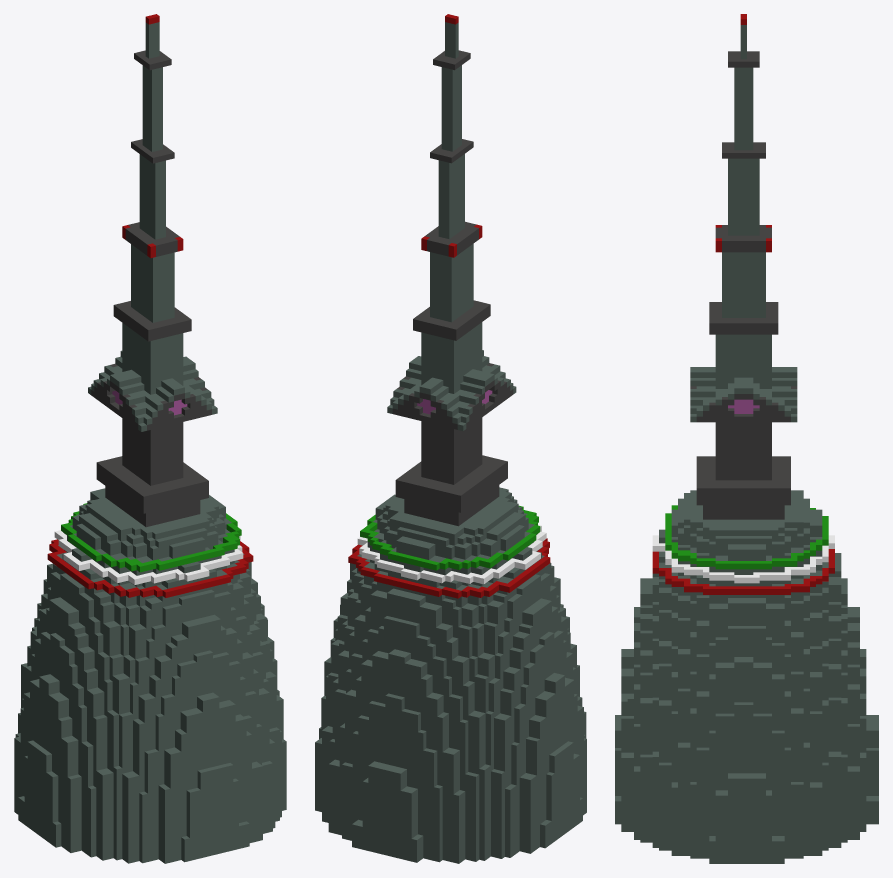
The model's file is torinoCyberPunk-0.obj.
The picture shows the model from 3 angles, left to right: view 1: azimuth 30°, elevation 25°; view 2: azimuth 150°, elevation 25°; view 3: azimuth 270°, elevation 25°; orthographic projection.
Bounding box in the file's own units: 4.2 × 13.9 × 4.2.
1 material, 1 textured.
